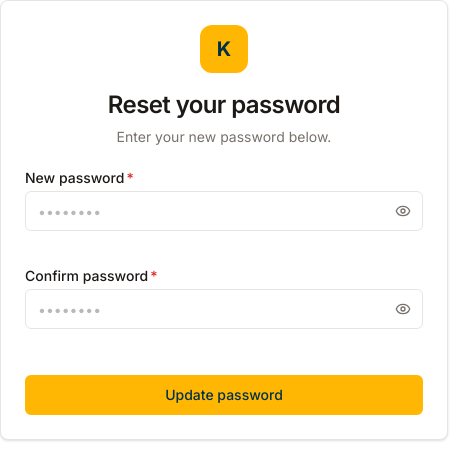
it: ResetPasswordForm › shows an inline error and blocks submit when passwords do not match
Type "newpassword123" into the password field labelled "New password" at (224,211), box [25, 191, 423, 231]
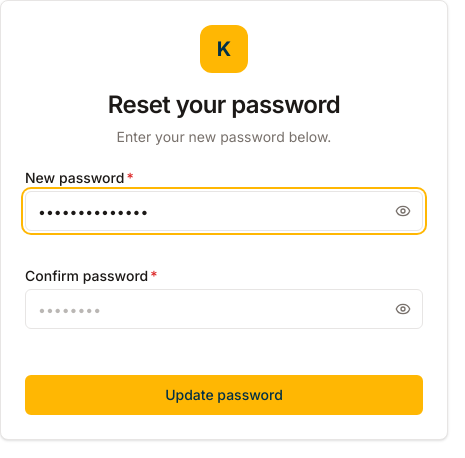
Type "differentpassword" into the password field labelled "Confirm password" at (224,309), box [25, 289, 423, 329]
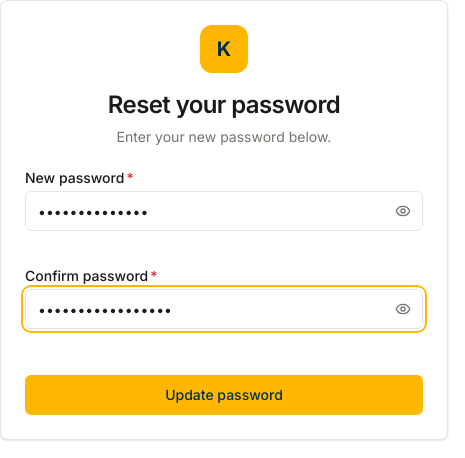
Click the button "Update password" at (224,395), box [25, 375, 423, 415]
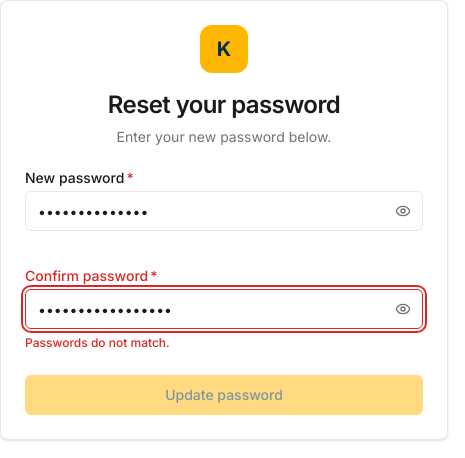
Check: the text "Passwords do not match." is shown, box [25, 335, 170, 350]
Check: the button "Update password" is disabled, box [25, 375, 423, 415]
